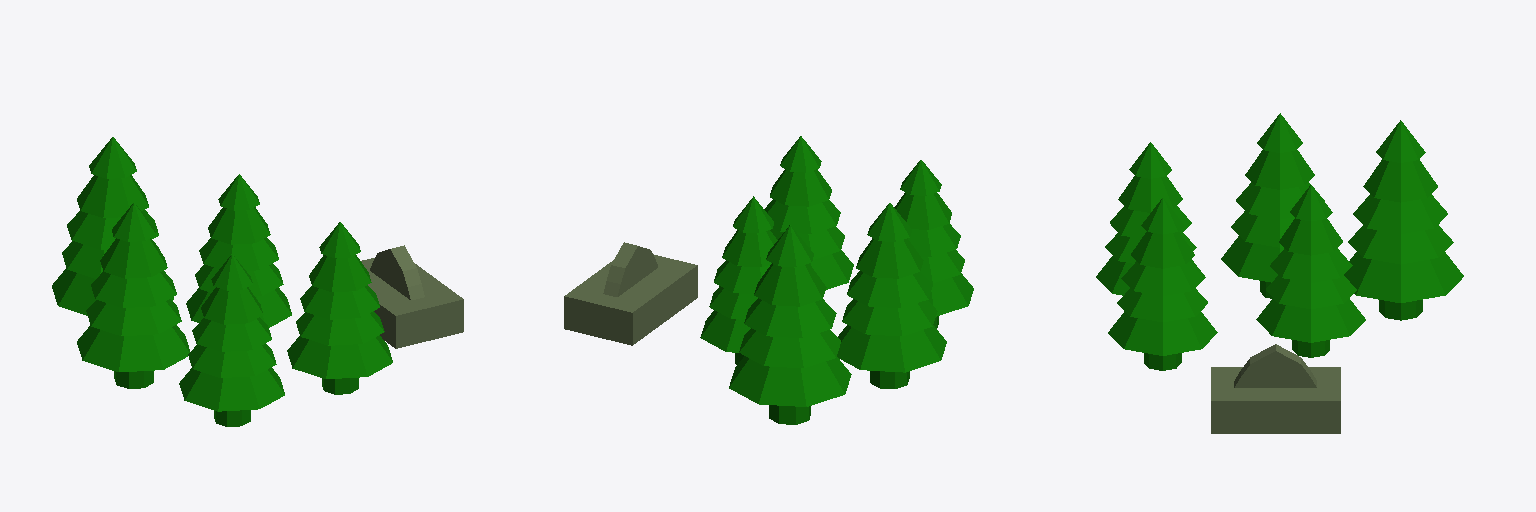
File: sawmill.obj
The picture shows the model from 3 angles: view 1: azimuth 30°, elevation 25°; view 2: azimuth 150°, elevation 25°; view 3: azimuth 270°, elevation 25°; orthographic projection.
Visible parts, largest first — view 1: Cylinder.002, Cylinder.005, Cylinder.006, Cylinder.003, Cylinder.004, Cube; view 2: Cylinder.003, Cylinder.002, Cube, Cylinder.006, Cylinder.005, Cylinder.004; view 3: Cylinder.003, Cylinder.006, Cylinder.004, Cube, Cylinder.002, Cylinder.005.
Boxes of the visible parts, <box> form: Cylinder.002: <box>77,203,189,388</box>; Cylinder.005: <box>179,254,284,426</box>; Cylinder.006: <box>287,222,392,394</box>; Cylinder.003: <box>52,137,173,315</box>; Cylinder.004: <box>186,174,291,327</box>; Cube: <box>361,245,463,348</box>; Cylinder.003: <box>729,225,851,424</box>; Cylinder.002: <box>837,203,946,388</box>; Cube: <box>564,242,697,345</box>; Cylinder.006: <box>764,136,853,289</box>; Cylinder.005: <box>894,160,973,328</box>; Cylinder.004: <box>700,196,777,364</box>; Cylinder.003: <box>1344,120,1463,320</box>; Cylinder.006: <box>1108,198,1217,370</box>; Cylinder.004: <box>1256,185,1365,357</box>; Cube: <box>1211,344,1340,433</box>; Cylinder.002: <box>1221,113,1324,298</box>; Cylinder.005: <box>1096,142,1205,295</box>.
Bounding box in the file's own units: 1.45 × 0.7676 × 1.34.